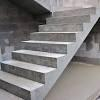Bench: (0, 7, 98, 99)
